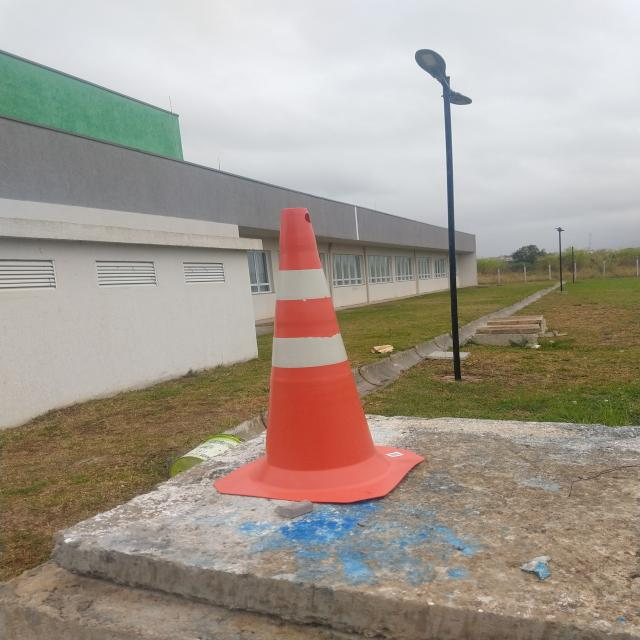cone: (214, 200, 422, 502)
